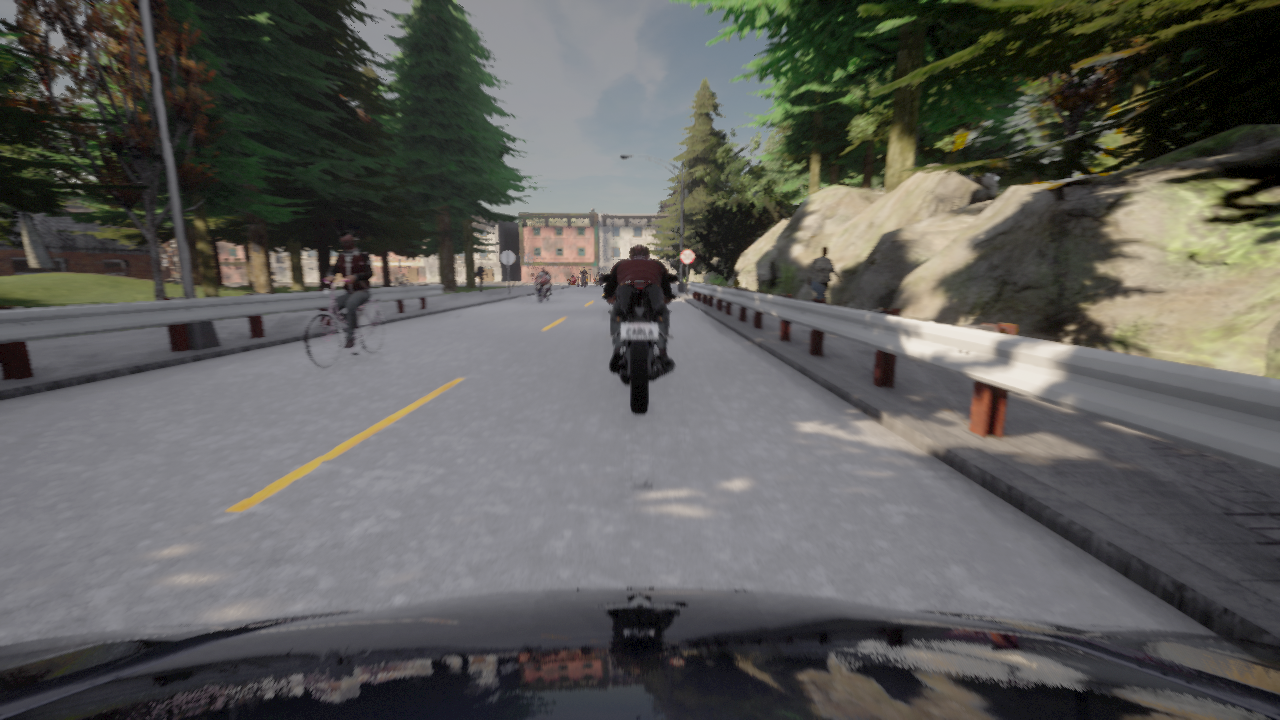cyclist: (0, 588, 1279, 719), (601, 274, 677, 413), (305, 279, 384, 368), (530, 273, 552, 303), (393, 275, 412, 283), (566, 276, 578, 285), (596, 273, 604, 286), (583, 275, 585, 287)
pedestrian: (808, 245, 840, 304), (476, 261, 486, 292), (731, 274, 740, 288)
